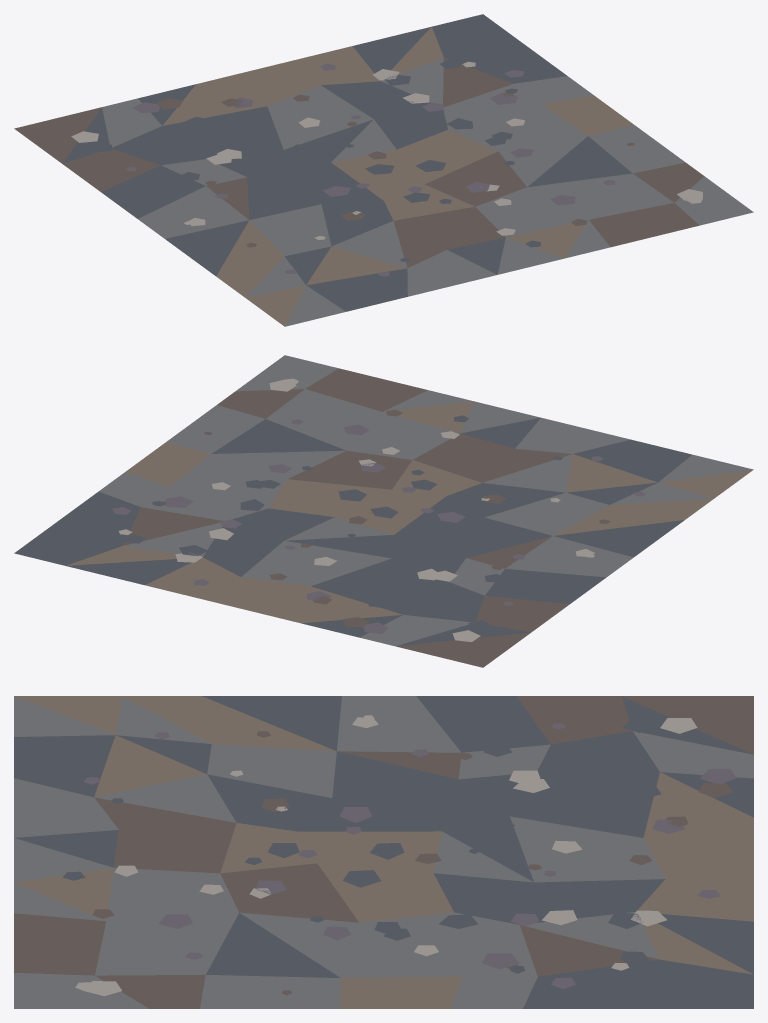
File: 08_Quarry_Gravel.fbx
3 renders of one model, top to bottom at view 1: azimuth 30°, elevation 25°; view 2: azimuth 150°, elevation 25°; view 3: azimuth 270°, elevation 25°, orthographic. The views are drawn at different scales.
Visible parts, largest first — view 1: 08_Quarry_Gravel; view 2: 08_Quarry_Gravel; view 3: 08_Quarry_Gravel.
Part boxes in pixels (x1=…): 08_Quarry_Gravel: x1=14, y1=14, x2=753, y2=326; 08_Quarry_Gravel: x1=14, y1=355, x2=753, y2=667; 08_Quarry_Gravel: x1=14, y1=696, x2=753, y2=1008.
Size of the model in its own units: 800 by 0.9001 by 800.
1 material, 1 textured.
